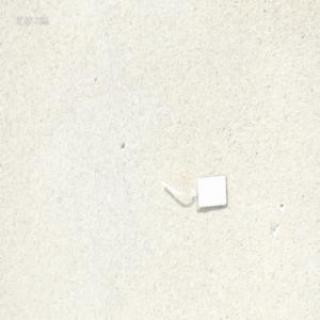LuggageTagtrack_idkeyframe: (159, 172, 227, 212)
